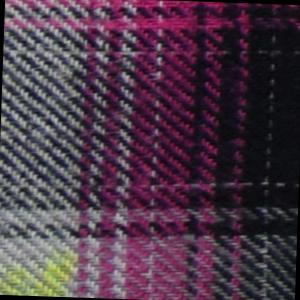Stain: (1, 248, 86, 298)
